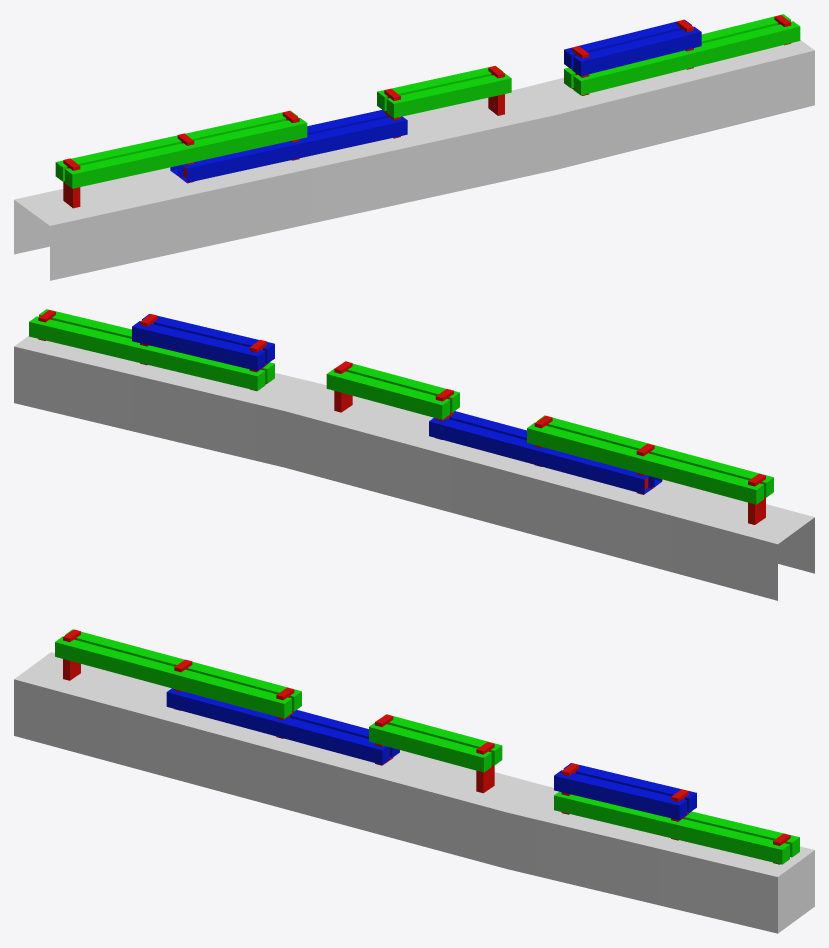
The model's file is Middle_Wall.fbx.
3 renders of one model, top to bottom at view 1: azimuth 30°, elevation 25°; view 2: azimuth 150°, elevation 25°; view 3: azimuth 330°, elevation 25°, orthographic. The views are drawn at different scales.
Visible parts, largest first — view 1: Middle_Wall; view 2: Middle_Wall; view 3: Middle_Wall.
Part boxes in pixels (bbox=[...]): Middle_Wall: bbox=[14, 14, 814, 280]; Middle_Wall: bbox=[14, 309, 814, 600]; Middle_Wall: bbox=[14, 629, 814, 933].
Bounding box in the file's own units: 2009 × 244 × 226.
